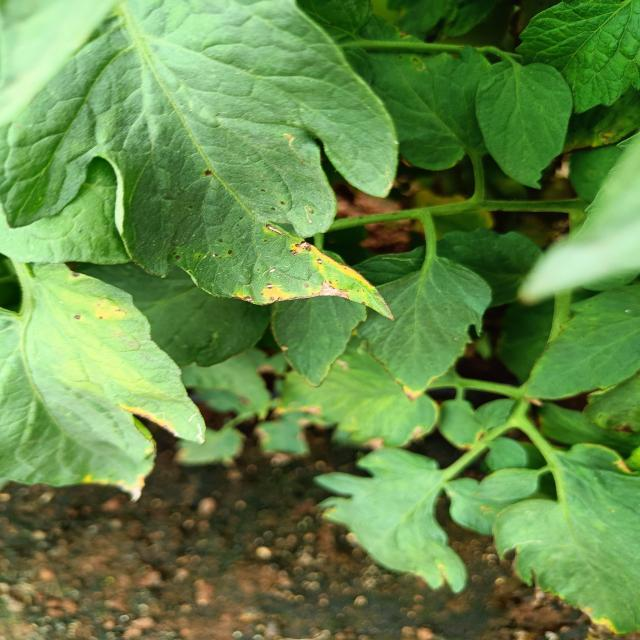Tomato mosaic virus leaf: (105, 152, 402, 326)
